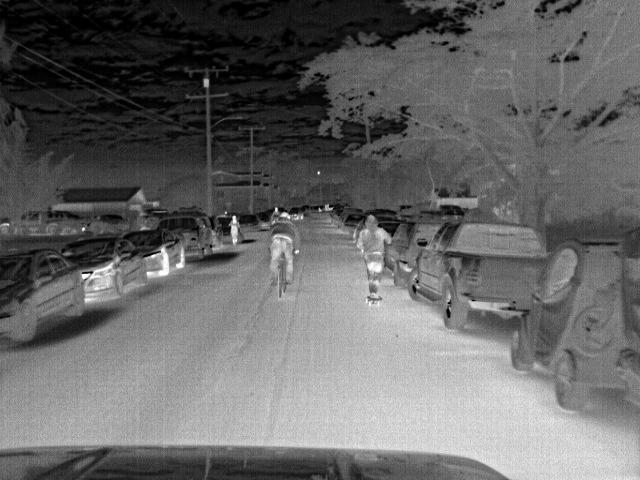car: (509, 240, 636, 414), (409, 216, 550, 330), (1, 248, 87, 345), (60, 234, 147, 305), (384, 220, 444, 286), (156, 213, 218, 264), (121, 230, 186, 276), (96, 214, 135, 234), (415, 204, 462, 220), (342, 214, 364, 233), (214, 218, 232, 239), (238, 214, 260, 230), (436, 210, 466, 221), (285, 206, 305, 220), (253, 212, 271, 227)
person: (356, 212, 394, 298), (269, 210, 300, 294), (227, 213, 240, 246), (270, 205, 282, 227)
